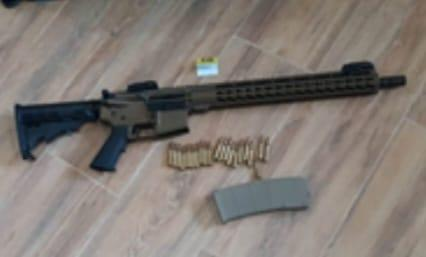larga: (13, 58, 408, 174)
